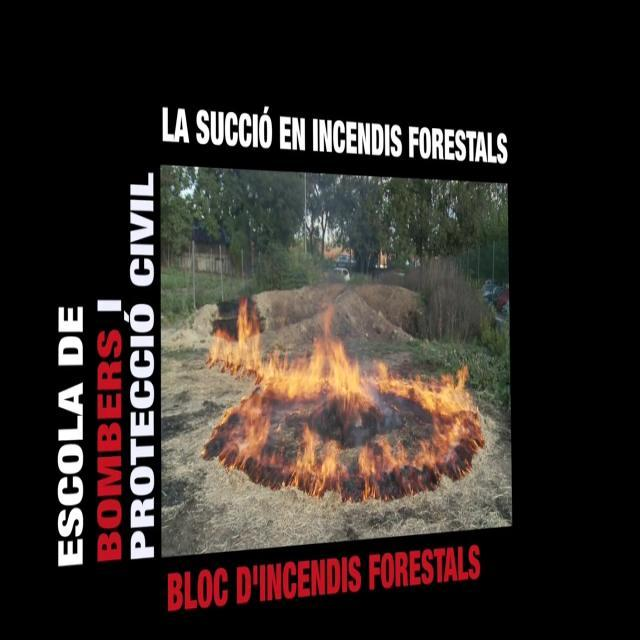Fire: (204, 288, 486, 494)
